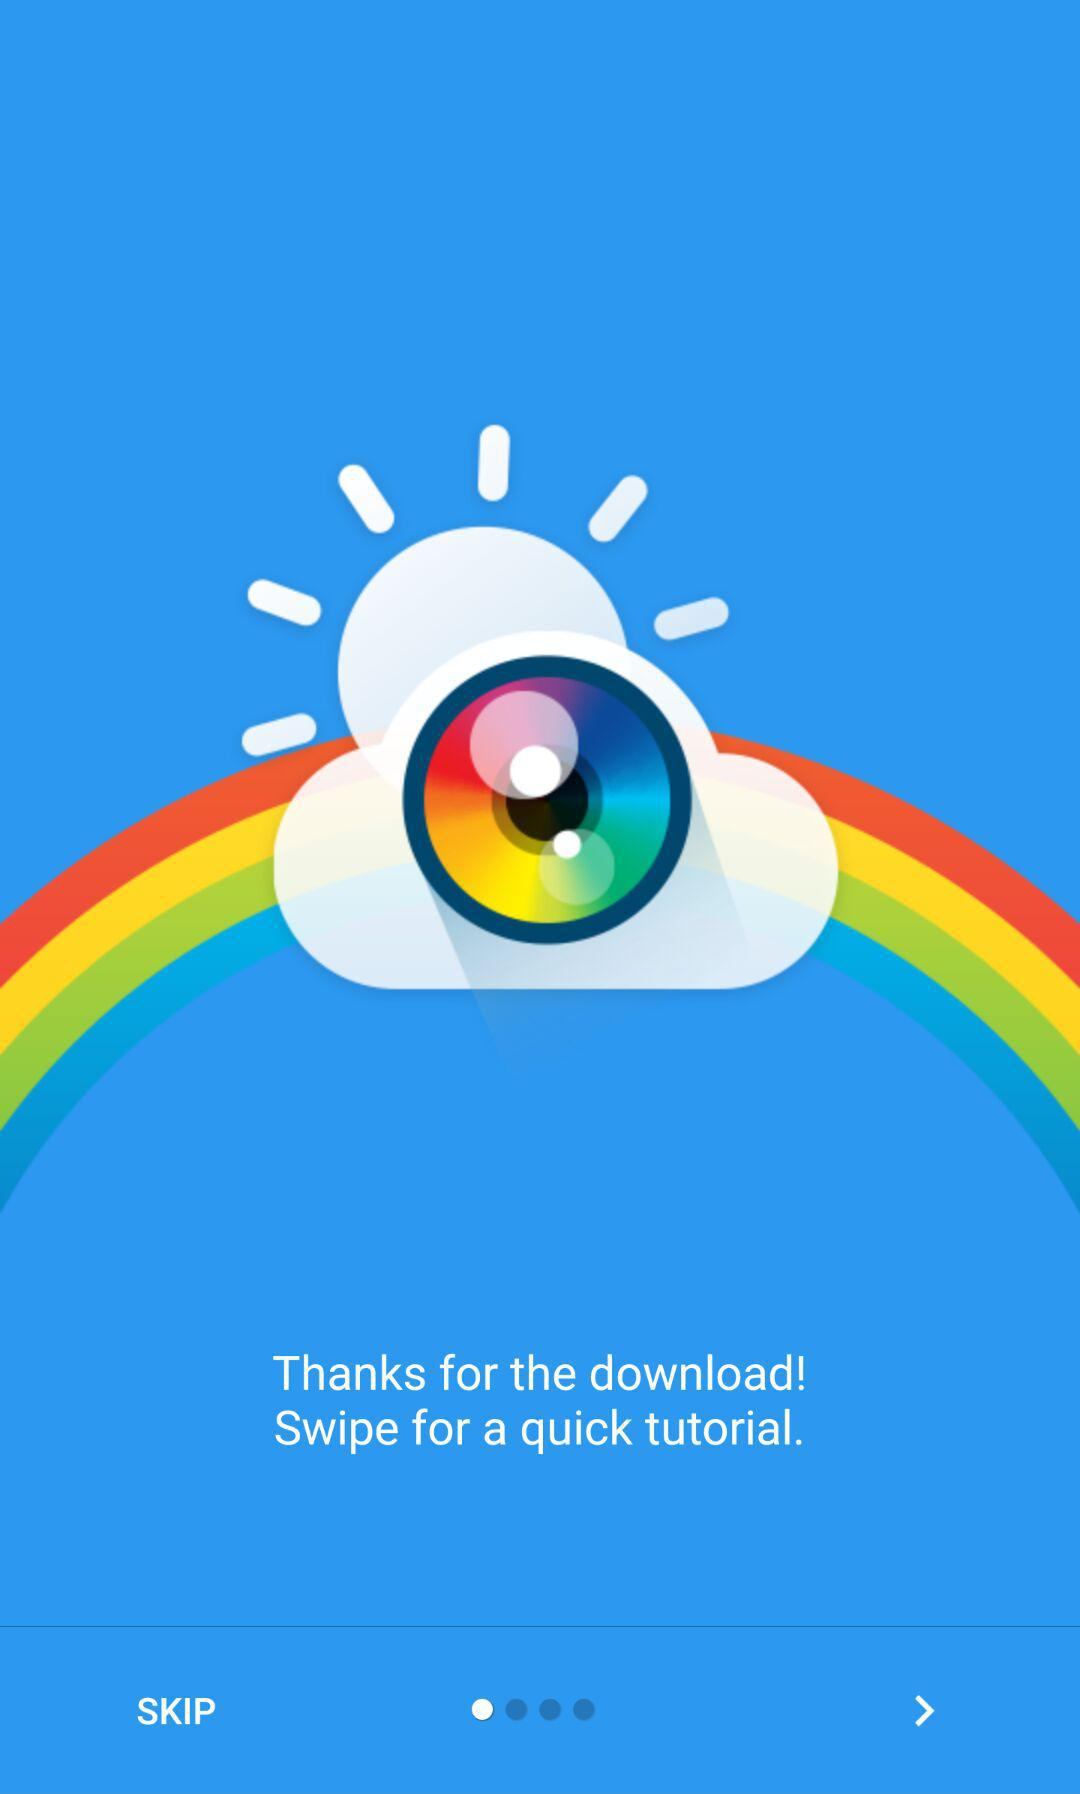Icon: (913, 1693, 937, 1729)
Image: (1, 422, 1080, 1214)
PageIndicator: (469, 1697, 598, 1724)
Text: (272, 1352, 807, 1456), (136, 1697, 218, 1727)
